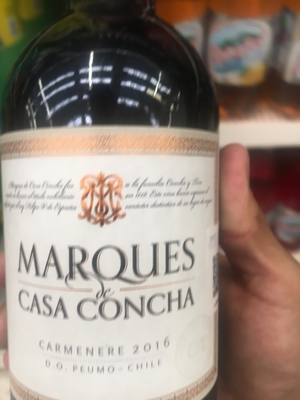marques de casa concha carmenere: (3, 38, 228, 400)
